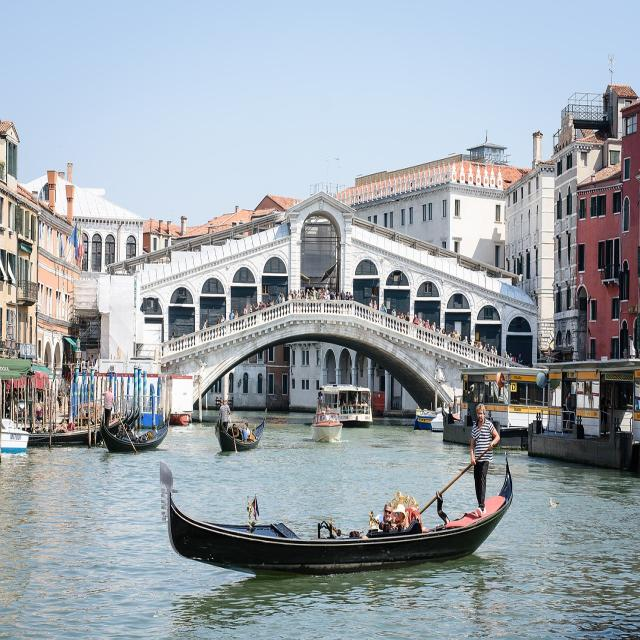boat: (143, 423, 538, 596), (94, 397, 181, 462), (209, 393, 273, 463)
